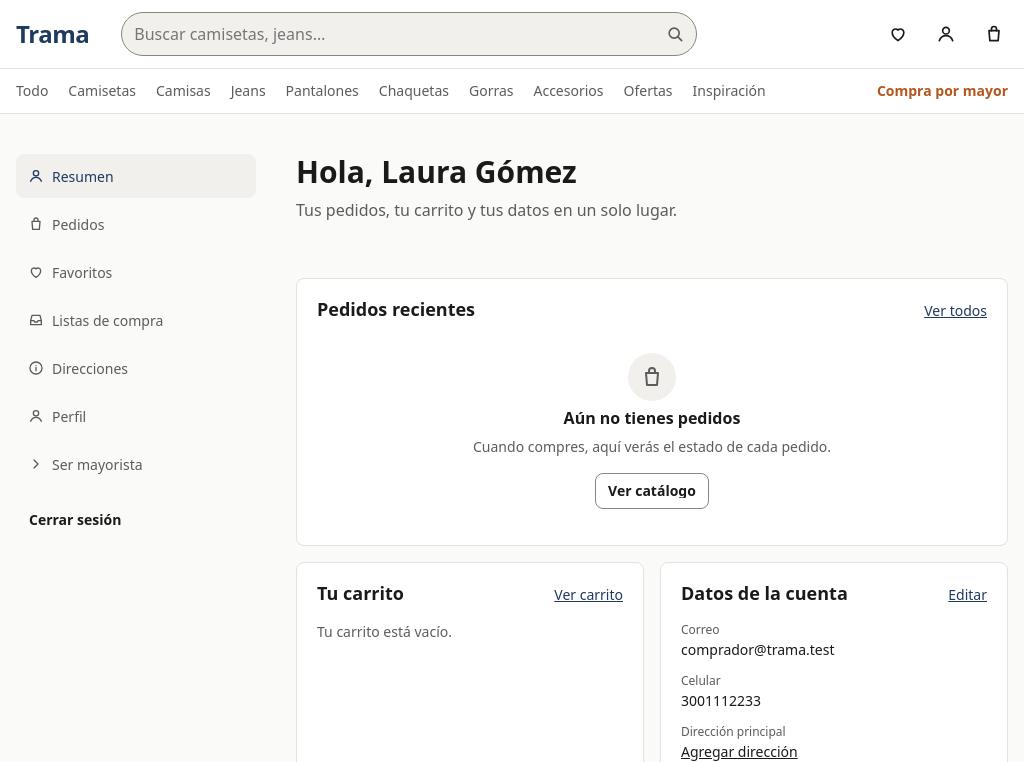
Autenticación › después de cerrar sesión, otra ruta privada pide ingresar
What coordinates should you click on to do the following:
click the button "Cerrar sesión"
I would click on:
 (75, 520)
Its box is [16, 502, 134, 538].
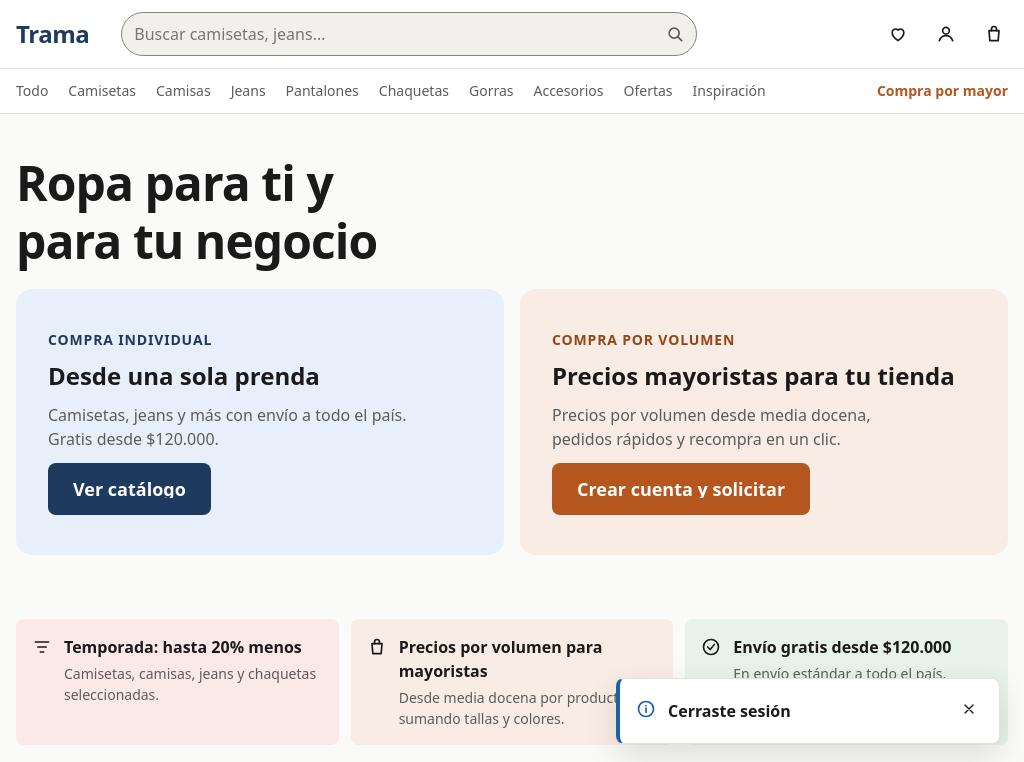
expect the heading "Ropa para ti y para tu negocio" is shown: met, box [16, 150, 377, 273]
El acceso a favoritos del header (el footer tiene otro enlace con el mismo nombre).
What coordinates should you click on to do the following:
click the link named "Favoritos"
I would click on:
 (898, 34)
Its box is [888, 24, 908, 44].
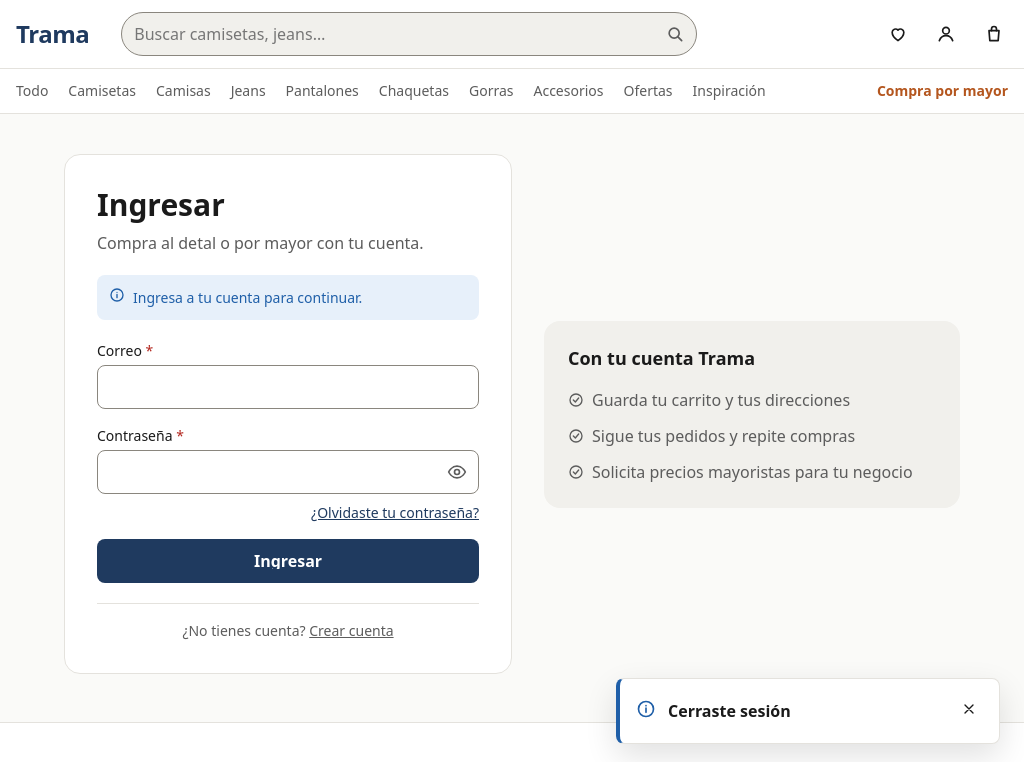
expect the text "Ingresa a tu cuenta para continuar." is shown: met, box [97, 275, 479, 320]
